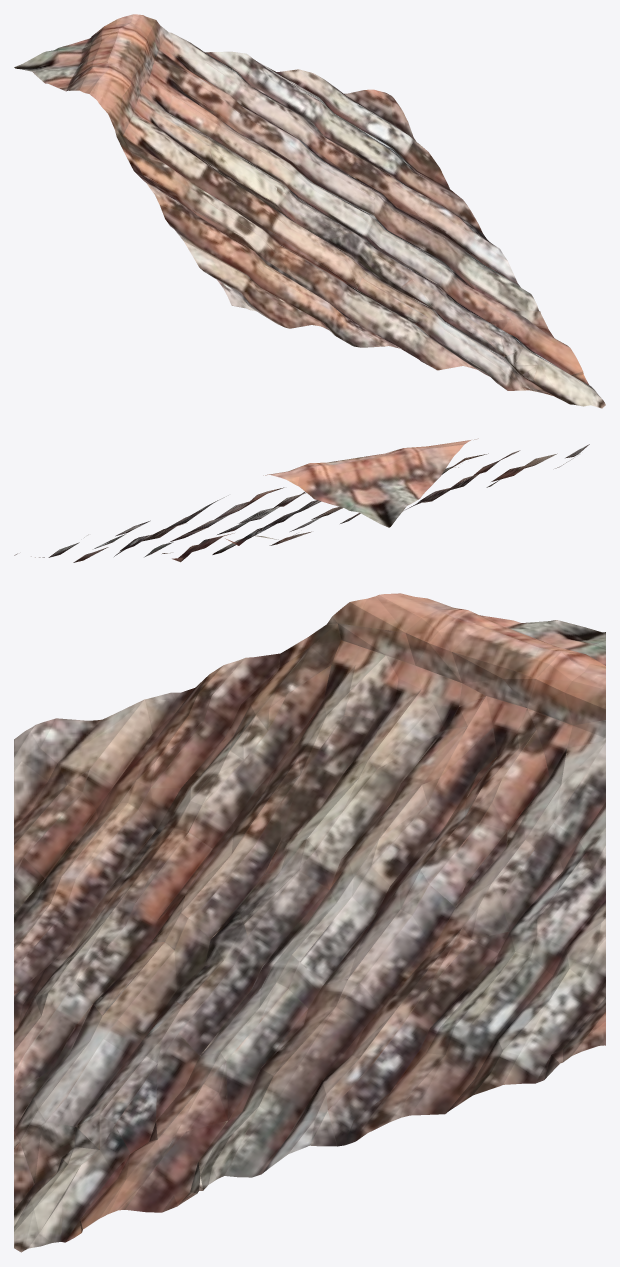
The picture shows the model from 3 angles, top to bottom: view 1: azimuth 30°, elevation 25°; view 2: azimuth 150°, elevation 25°; view 3: azimuth 270°, elevation 25°; orthographic projection. The views are drawn at different scales.
Bounding box in the file's own units: 1.67 × 1.28 × 1.67.
3 materials, 3 textured.
